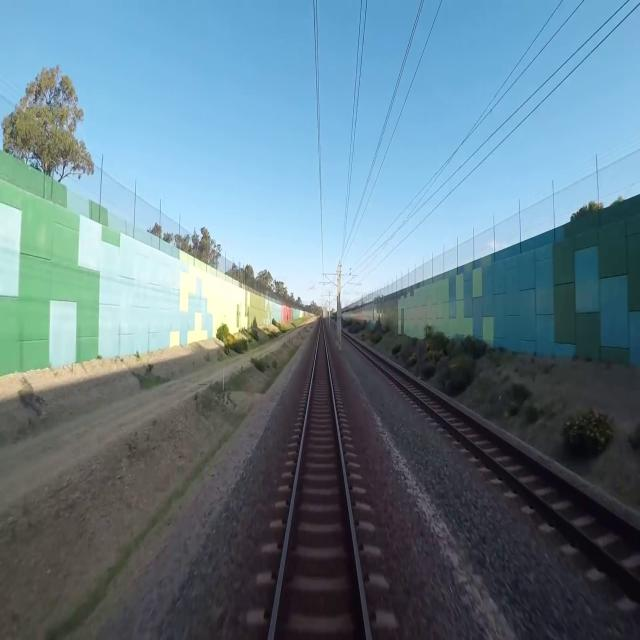rail-track: (364, 348, 640, 575), (273, 325, 365, 639)
